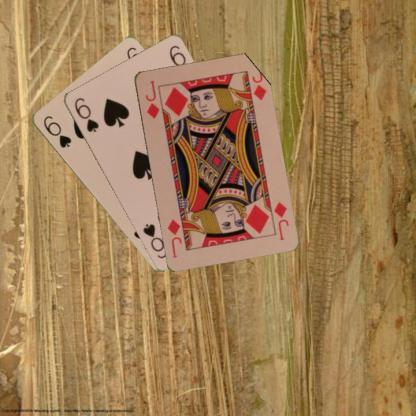6s: (40, 112, 73, 150), (71, 95, 100, 133)
Jd: (142, 78, 161, 119), (271, 199, 289, 241)
